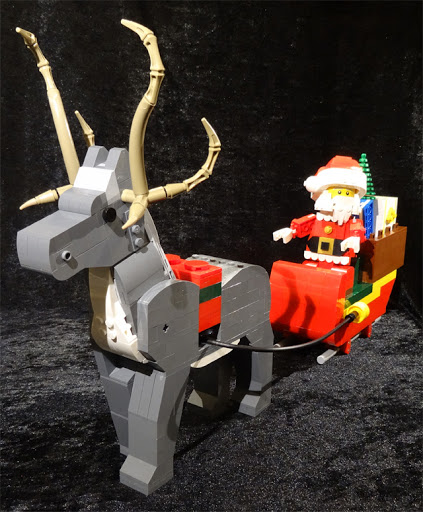lego: (269, 146, 378, 322)
